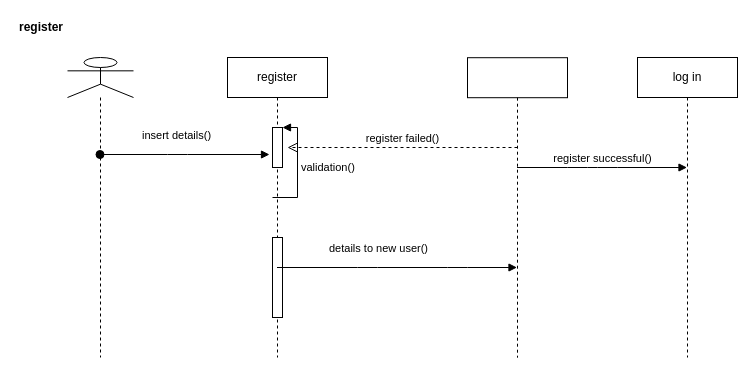
Some shapes in this 755 by 375 pixel diagram are drawn without their labels. The box of each missing label's shape, as (x1, y1, x2, y2) in pixels:
server: (466, 57, 568, 358)
visitor: (66, 56, 134, 358)
